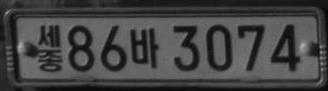0: (205, 24, 233, 72)
3: (173, 24, 200, 72)
4: (270, 23, 301, 71)
6: (99, 25, 127, 72)
7: (236, 23, 265, 72)
8: (66, 23, 94, 72)
바: (129, 27, 159, 68)
세종_V: (36, 24, 63, 72)
